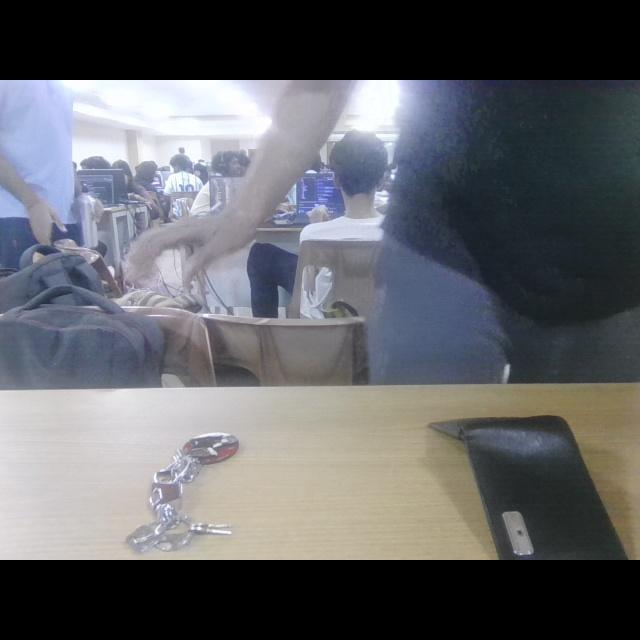keys: (122, 428, 255, 554)
wallet: (421, 406, 633, 560)
